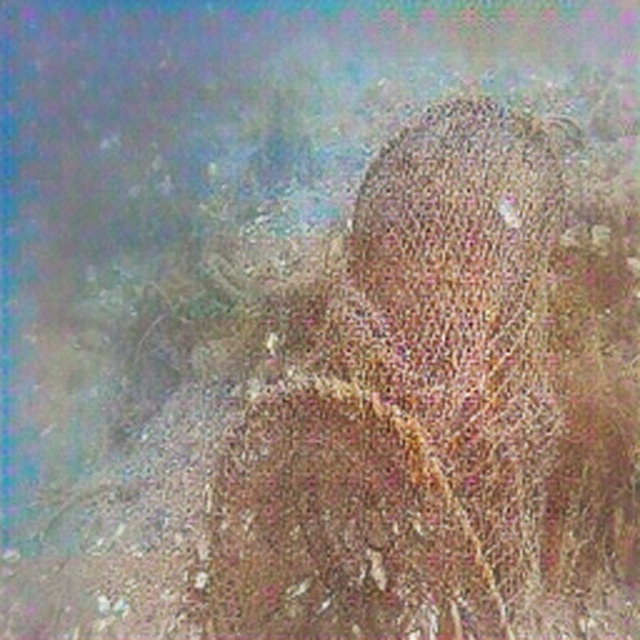mine: (208, 92, 570, 640)
